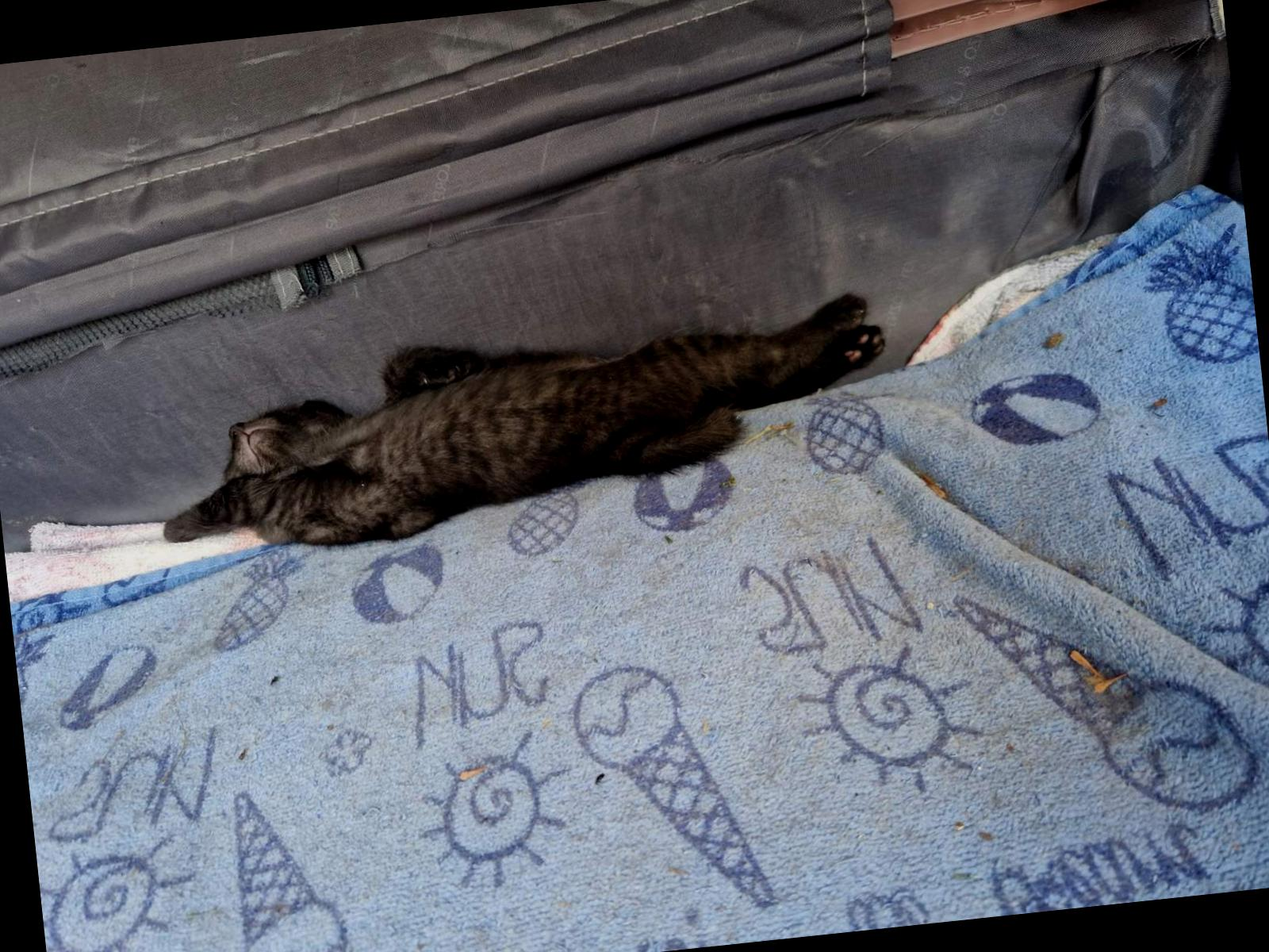macka: (142, 288, 895, 567)
